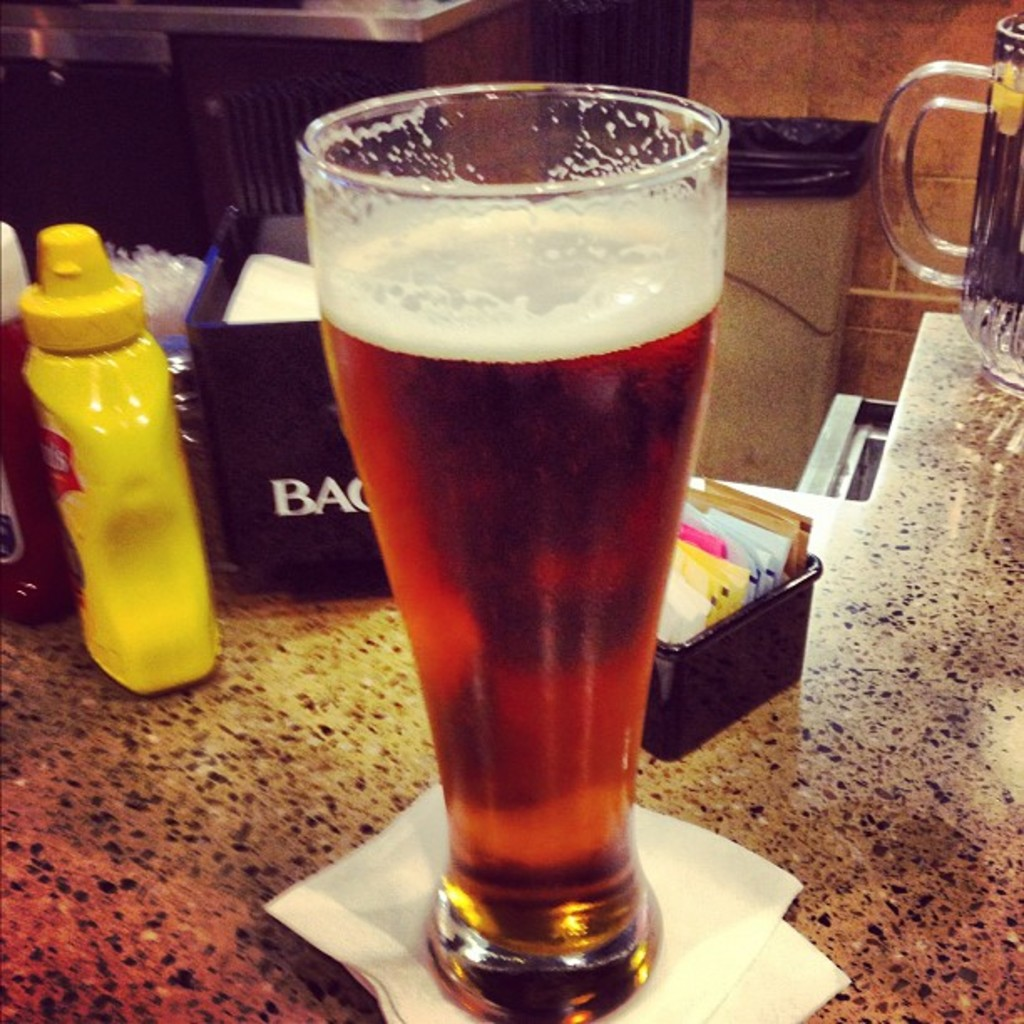Beer: (311, 202, 724, 973)
